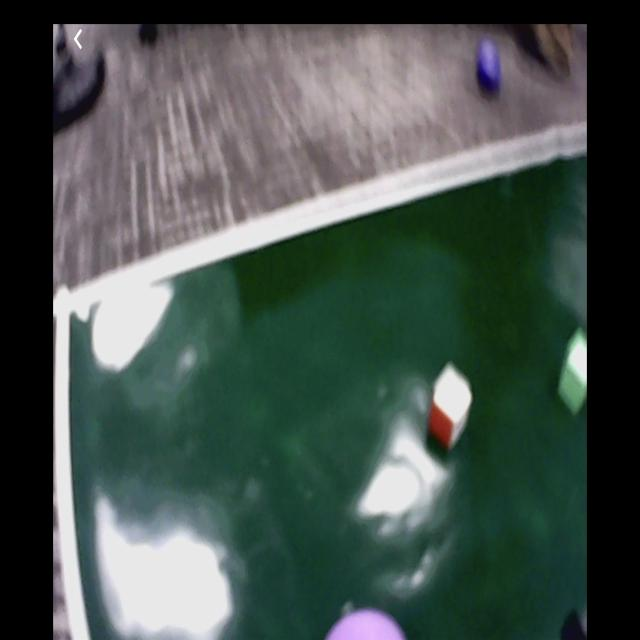ball: (327, 607, 406, 640), (477, 42, 504, 89)
